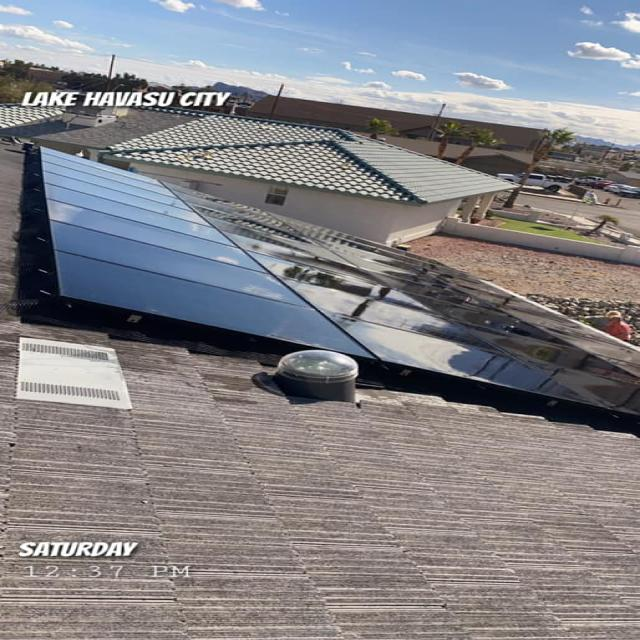clean-solar-panel: (40, 149, 637, 414)
